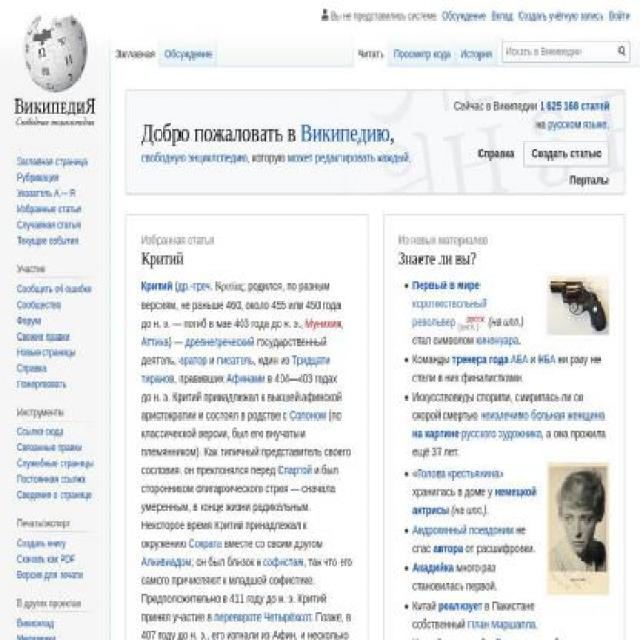button: (389, 33, 456, 67), (159, 33, 218, 67), (111, 33, 160, 67), (454, 33, 498, 67), (352, 33, 390, 67), (523, 146, 609, 160), (469, 146, 525, 160), (562, 172, 609, 186)
field: (502, 40, 630, 63), (614, 41, 629, 62)
